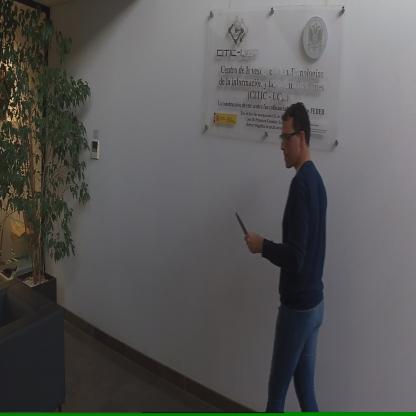knife: (234, 208, 256, 255)
